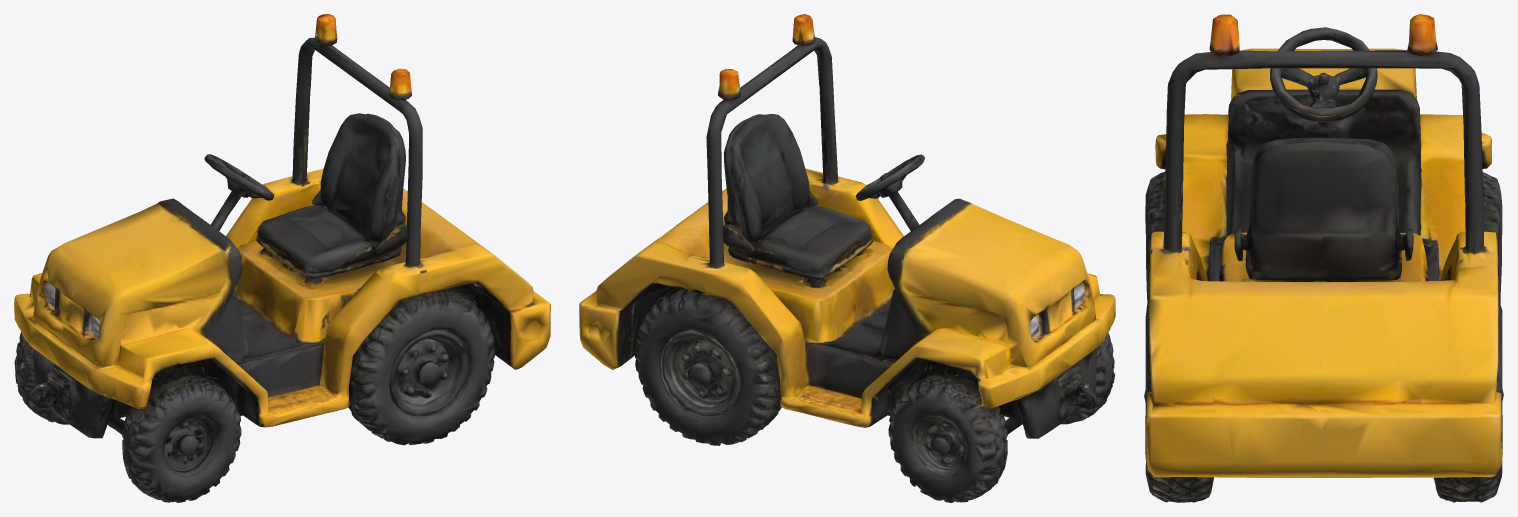
File: tow_tractor.glb
The picture shows the model from 3 angles, left to right: view 1: azimuth 30°, elevation 25°; view 2: azimuth 150°, elevation 25°; view 3: azimuth 270°, elevation 25°; orthographic projection. The views are drawn at different scales.
Size of the model in its own units: 1.93 by 1.45 by 0.9975.
Materials: 1 (1 with a texture image).
